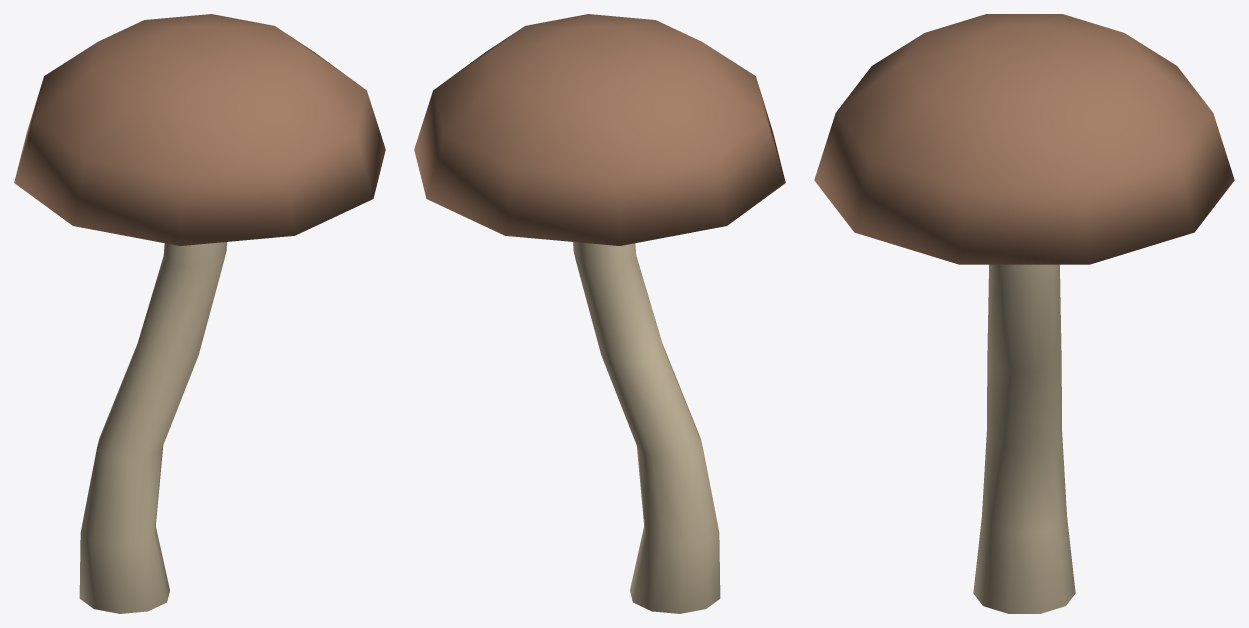
The model's file is Mushroom_LightBrown_Tall_4.fbx.
3 renders of one model, left to right at view 1: azimuth 30°, elevation 25°; view 2: azimuth 150°, elevation 25°; view 3: azimuth 270°, elevation 25°, orthographic. The views are drawn at different scales.
Parts seen in each view (by area): view 1: Cylinder.515, Cylinder.514; view 2: Cylinder.515, Cylinder.514; view 3: Cylinder.515, Cylinder.514.
Part boxes in pixels (x1,y1,x2,y2): Cylinder.515: [14, 14, 385, 245]; Cylinder.514: [79, 242, 226, 613]; Cylinder.515: [414, 14, 785, 245]; Cylinder.514: [573, 242, 720, 613]; Cylinder.515: [814, 14, 1234, 264]; Cylinder.514: [973, 264, 1075, 613].
Bounding box in the file's own units: 82.22 × 133 × 86.45.
